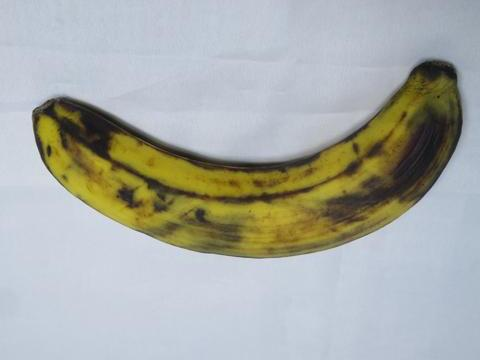overripe: (22, 55, 465, 272)
